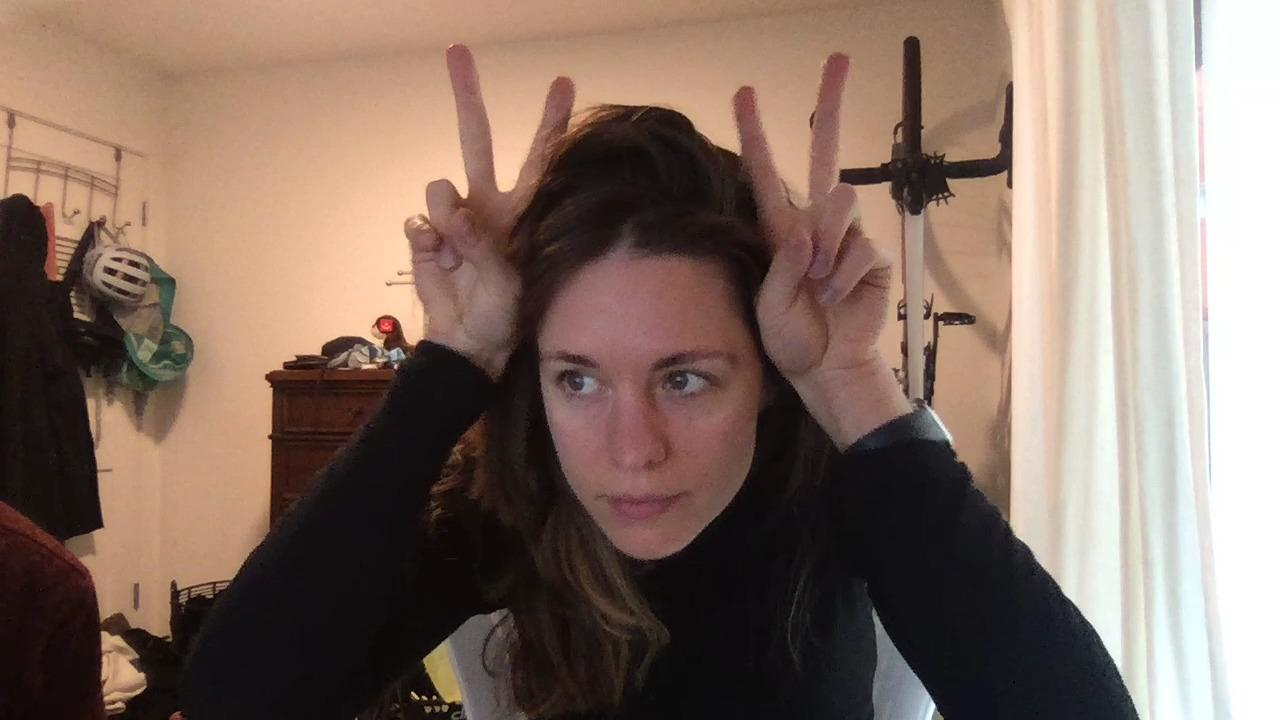face: (537, 291, 762, 559)
